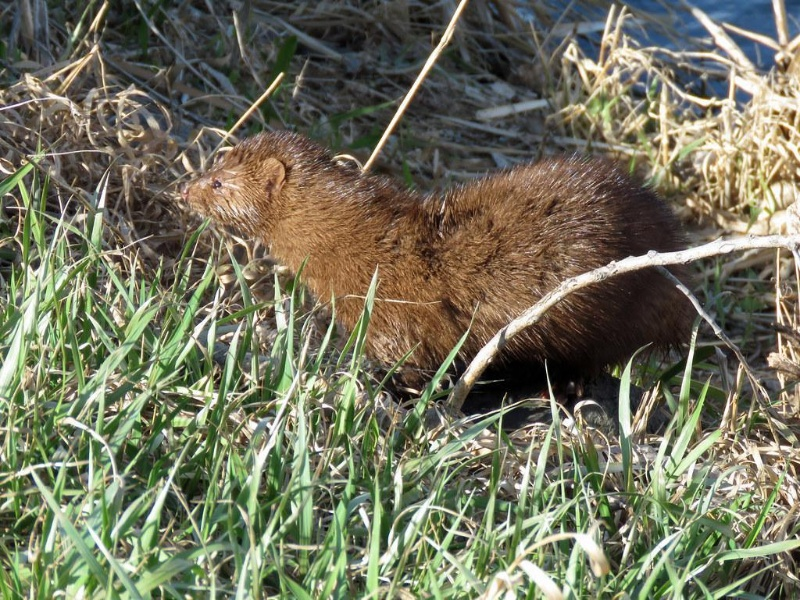minkish: (179, 128, 724, 401)
